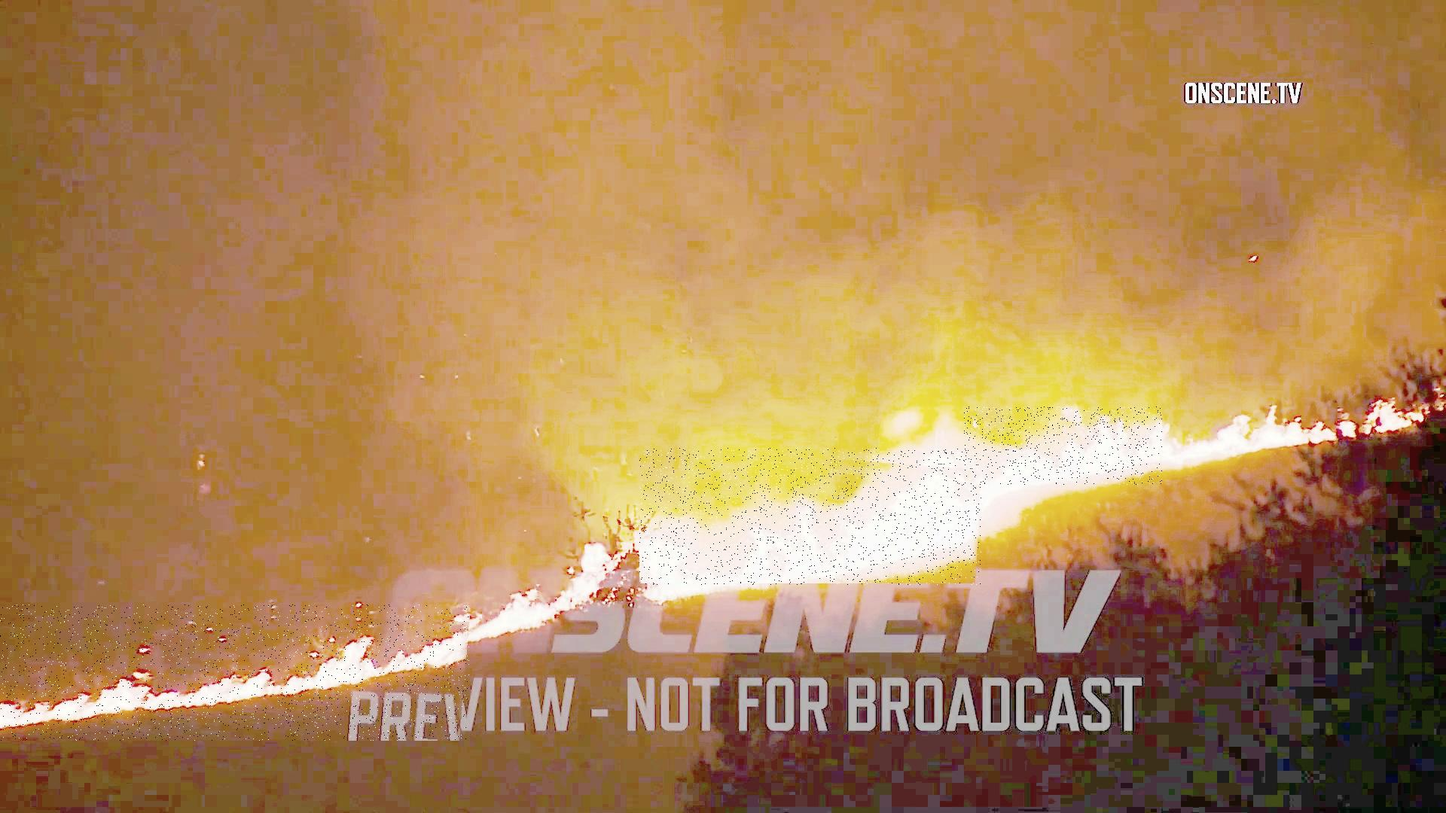fire: (0, 605, 469, 741), (639, 449, 981, 586), (964, 407, 1162, 485)
